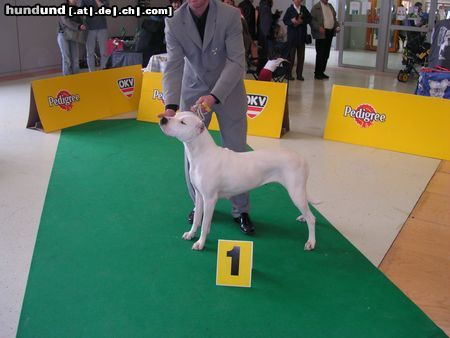dogo_argentino: (159, 111, 323, 252)
person: (161, 0, 253, 235), (308, 0, 340, 80), (282, 0, 311, 81), (59, 0, 87, 76), (87, 0, 108, 72)
